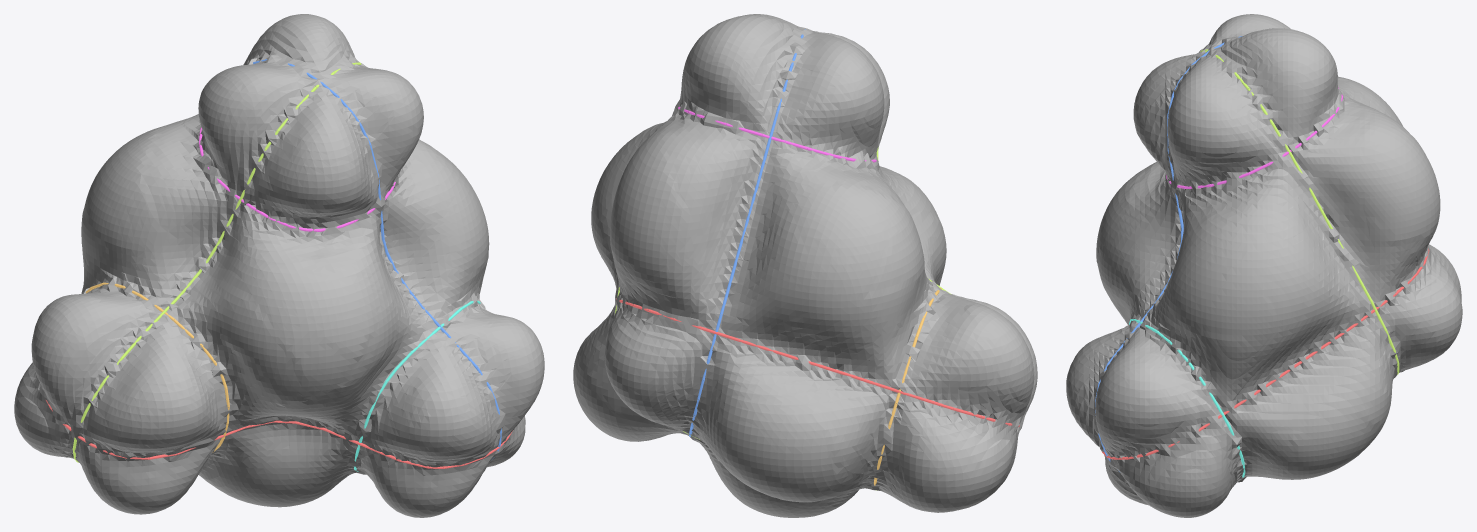
Rendered from flowrep_trebol.gltf.
The picture shows the model from 3 angles, left to right: view 1: azimuth 30°, elevation 25°; view 2: azimuth 150°, elevation 25°; view 3: azimuth 270°, elevation 25°; orthographic projection. The views are drawn at different scales.
Bounding box in the file's own units: 0.6762 × 0.6929 × 0.5518.
